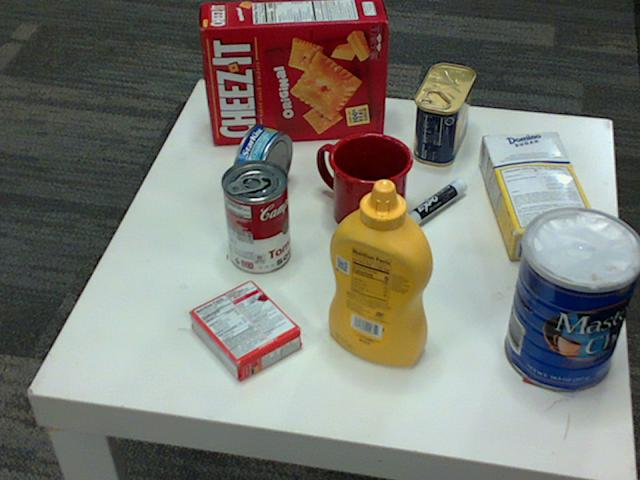cracker_box: (201, 0, 386, 142)
gelatin_box: (185, 279, 297, 382)
large_marker: (390, 181, 467, 238)
master_chef_can: (506, 208, 639, 393)
mug: (317, 130, 413, 233)
mustard_bottle: (328, 180, 433, 366)
potted_meat_can: (412, 64, 473, 166)
sugar_box: (479, 132, 600, 260)
tomato_soup_can: (221, 159, 290, 274)
tuna_fish_can: (231, 124, 291, 202)
